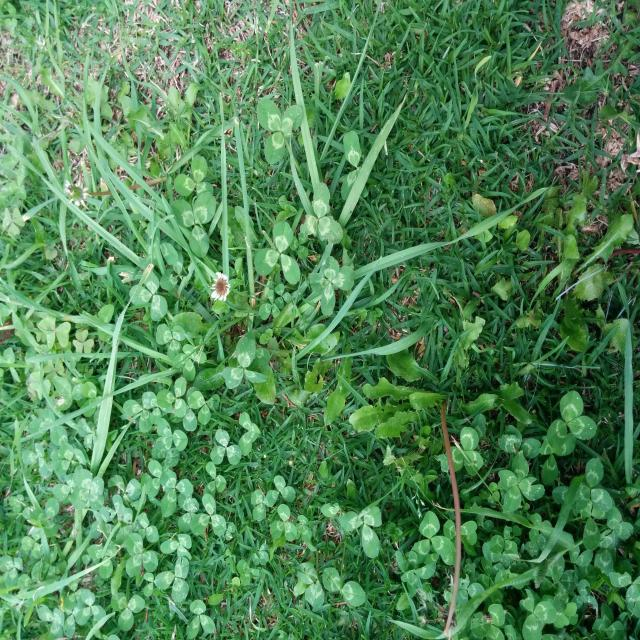Four Leaf Clover: (498, 453, 545, 512), (310, 256, 355, 316), (70, 468, 104, 510), (172, 344, 207, 381)
